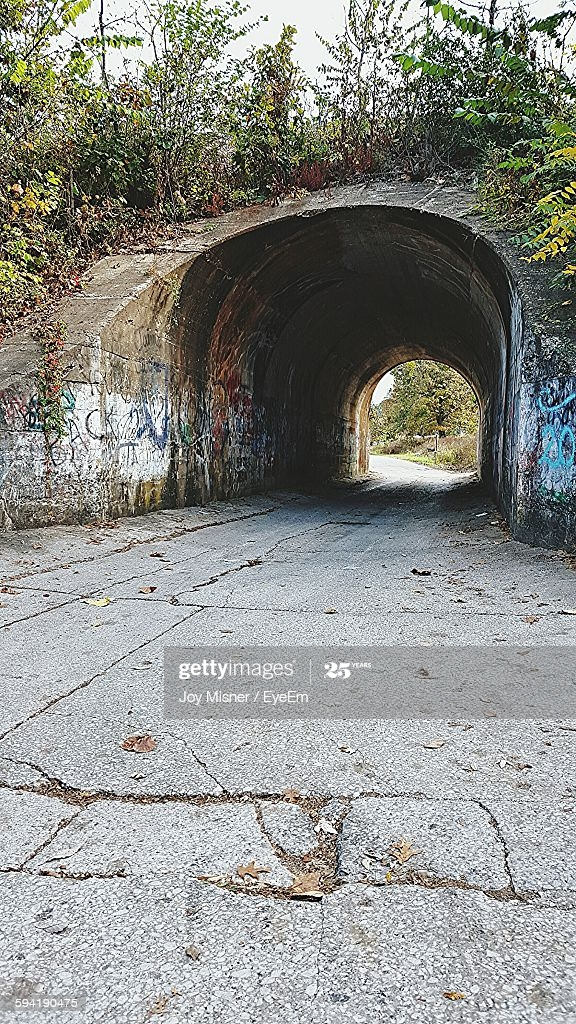bridge: (1, 162, 571, 537)
